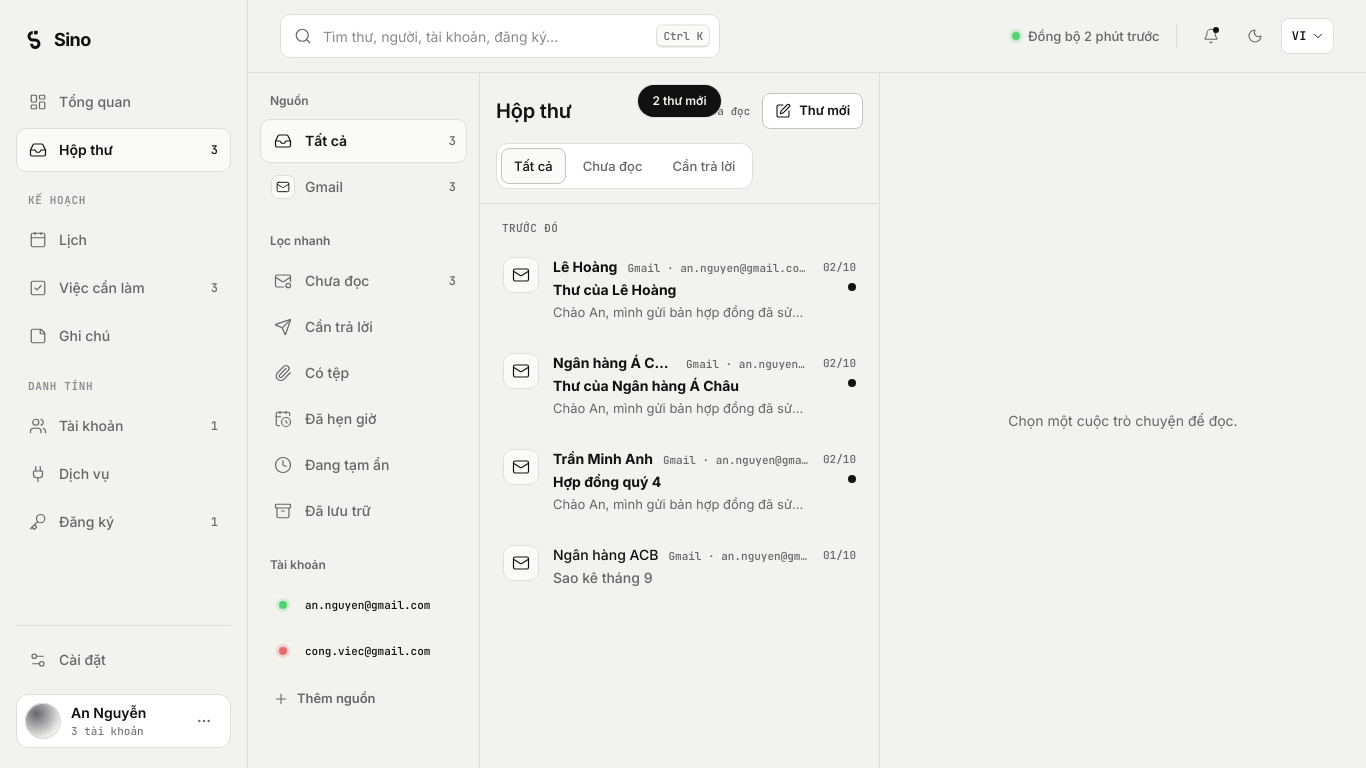
Test: the inbox while mail arrives (FE-54) › slides in what arrives at the top, says "N thư mới" for mail from sync, and the inbox count follows
Expected: the link "Trần Minh Anh" is shown, [488,434,871,528]
Click the button "2 thư mới" at {"x": 679, "y": 101}, box [638,85,720,117]
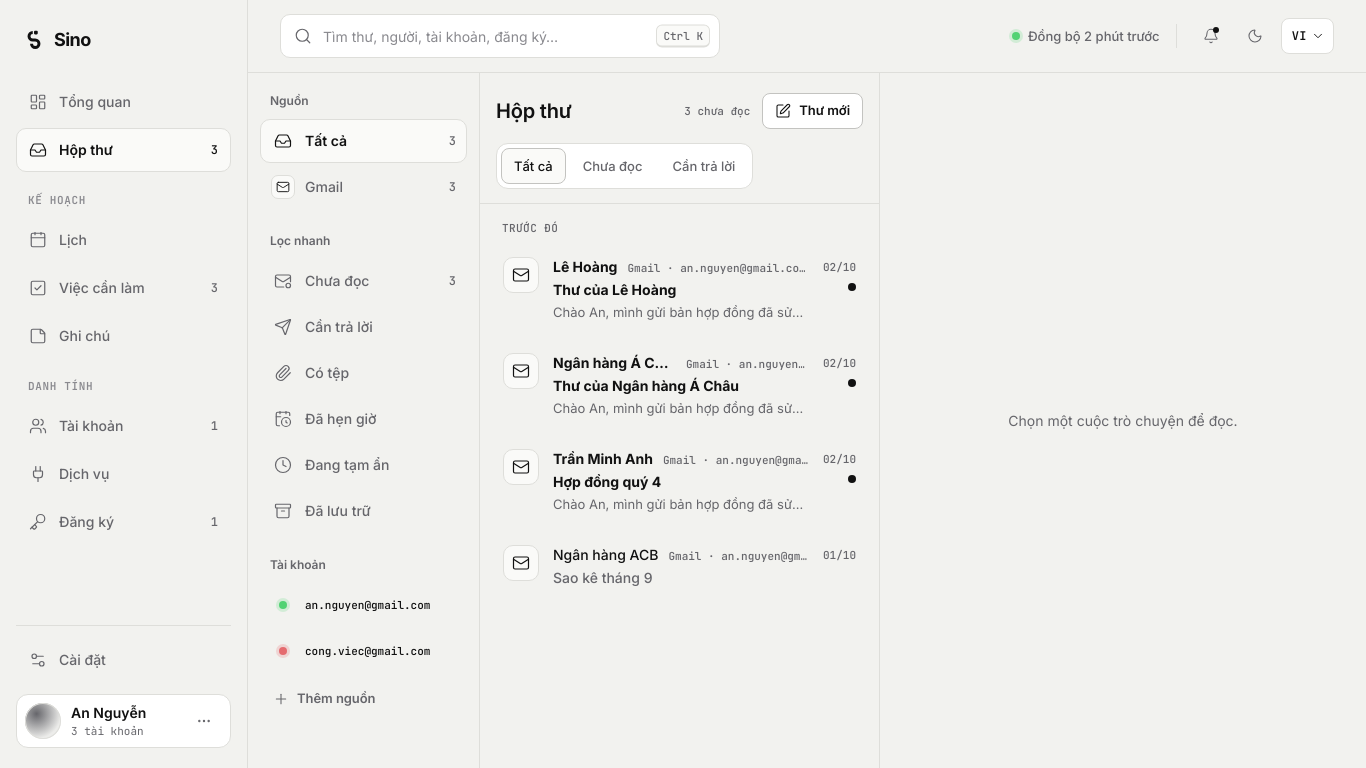
Result: the button "2 thư mới" is gone
